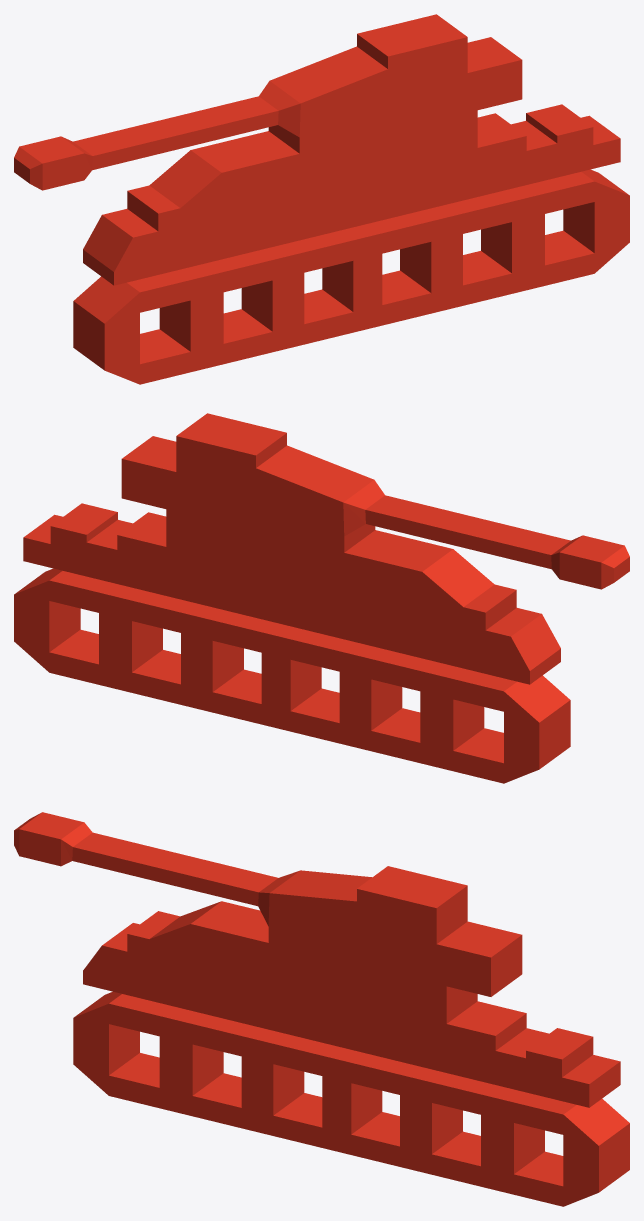
Rendered from Icon_Tank.fbx.
3 views of the same model, one above another, from view 1: azimuth 30°, elevation 25°; view 2: azimuth 150°, elevation 25°; view 3: azimuth 330°, elevation 25° (orthographic).
Visible parts, largest first — view 1: Icon_Tank; view 2: Icon_Tank; view 3: Icon_Tank.
Boxes of the visible parts, x1,y1,x2,y2 form: Icon_Tank: (14, 14, 629, 384); Icon_Tank: (14, 413, 629, 783); Icon_Tank: (14, 812, 629, 1206).
Size of the model in its own units: 133 by 57.23 by 12.06.
